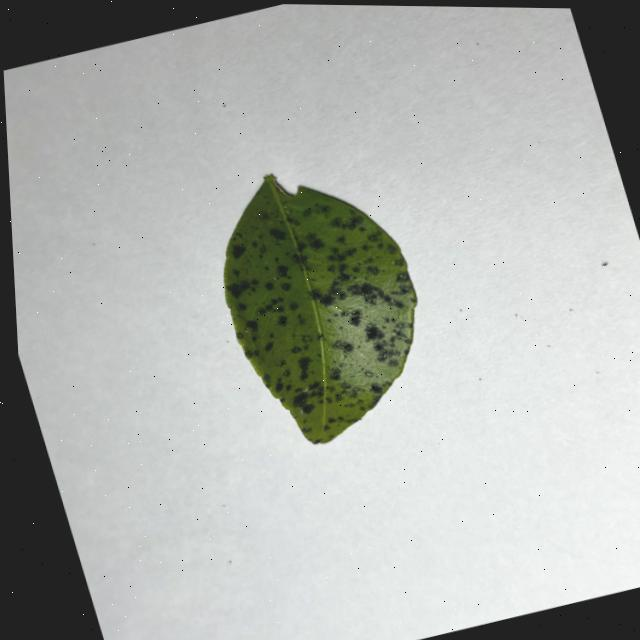sooty_mold: (223, 175, 415, 444)
